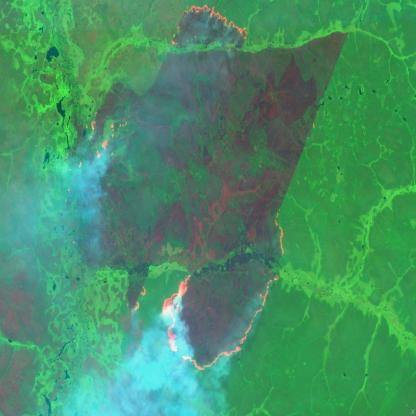fire: (157, 210, 290, 380)
